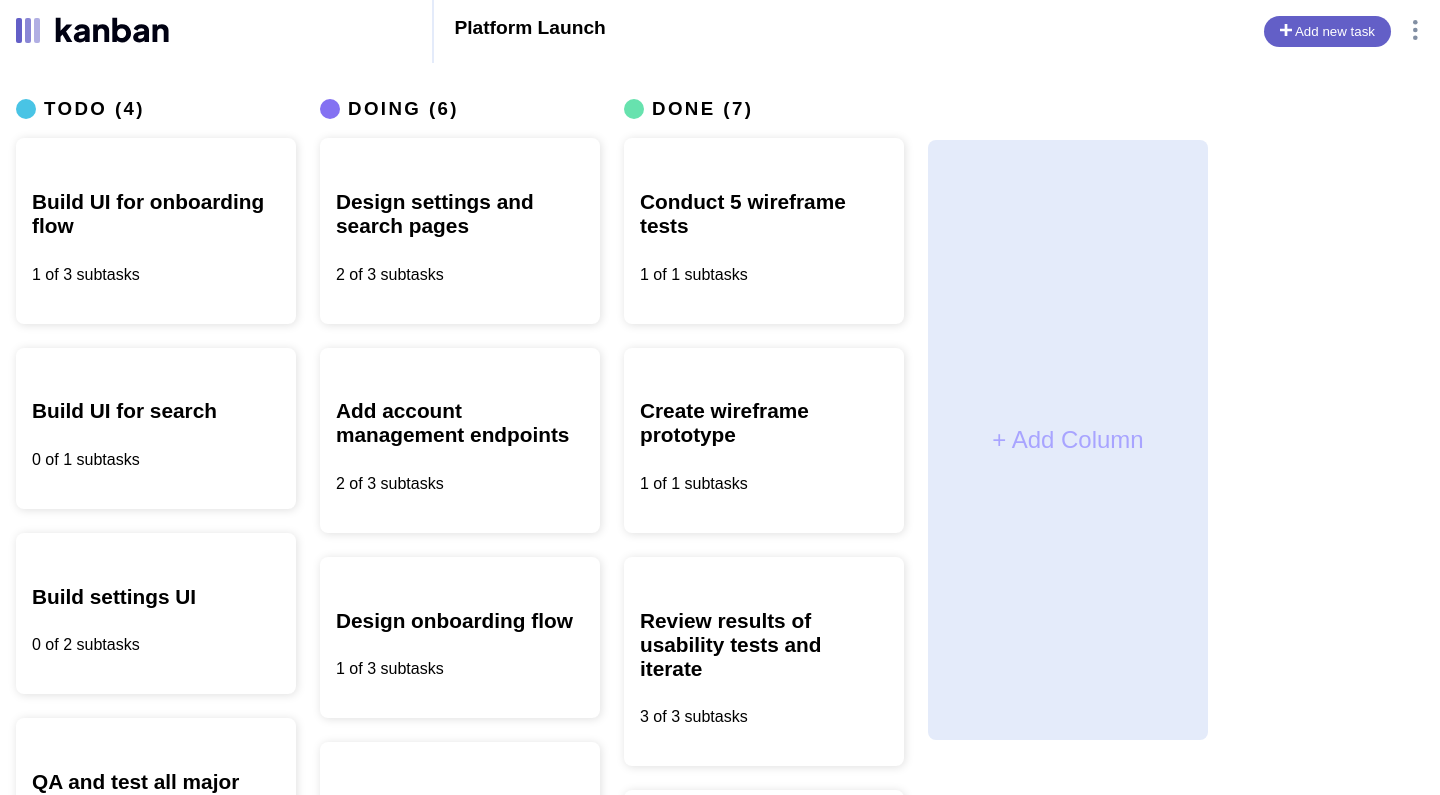
Scenario: Header › adding new task
Click the button named "add task".
click(1328, 32)  # box [1264, 16, 1391, 47]
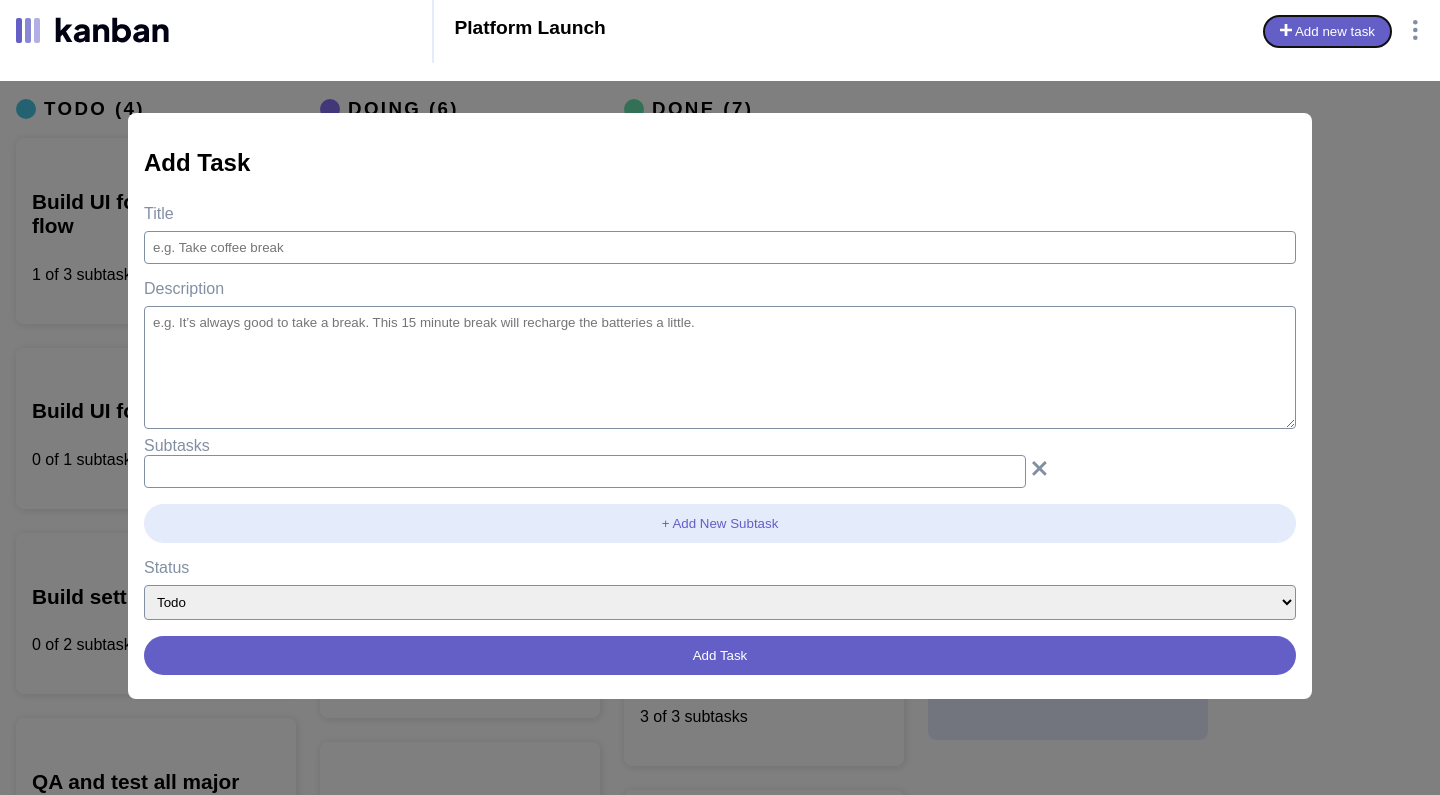
Expected: the heading "Add Task" is shown, [144, 149, 250, 176]
